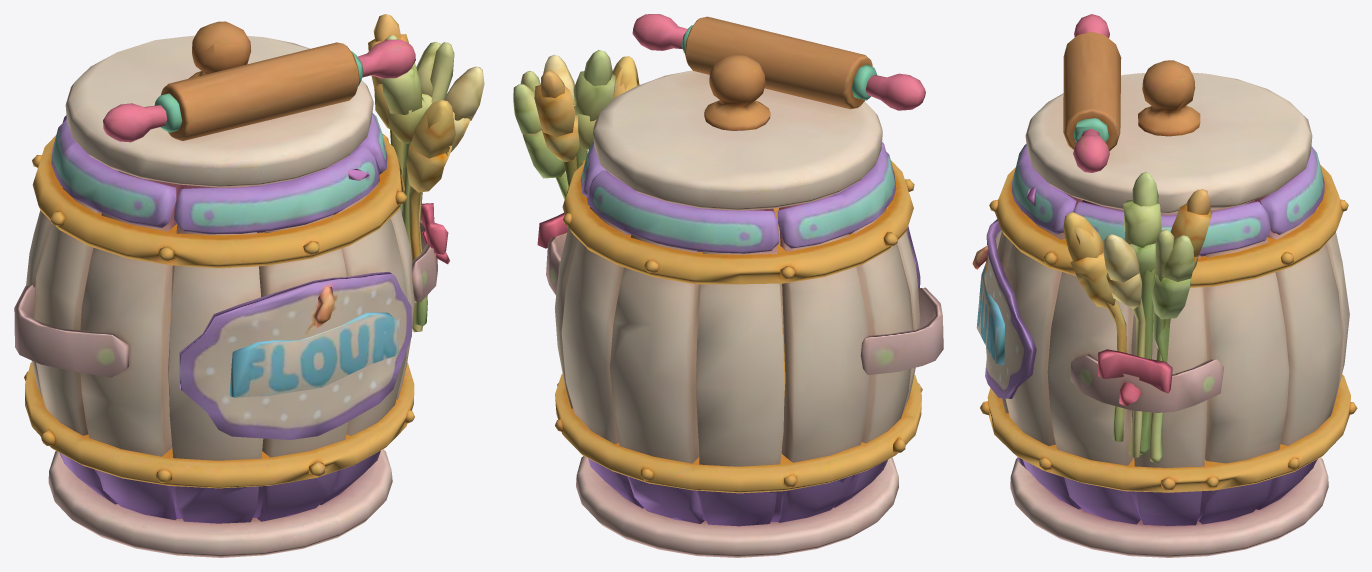
File: bakery-flour-barrel.glb
3 renders of one model, left to right at view 1: azimuth 30°, elevation 25°; view 2: azimuth 150°, elevation 25°; view 3: azimuth 270°, elevation 25°, orthographic. The views are drawn at different scales.
Parts seen in each view (by area): view 1: geometry_0; view 2: geometry_0; view 3: geometry_0.
Boxes of the visible parts, x1,y1,x2,y2 form: geometry_0: (14, 14, 484, 557); geometry_0: (513, 14, 943, 557); geometry_0: (972, 14, 1357, 557).
Bounding box in the file's own units: 0.9954 × 0.9999 × 0.8121.
1 material, 1 textured.
